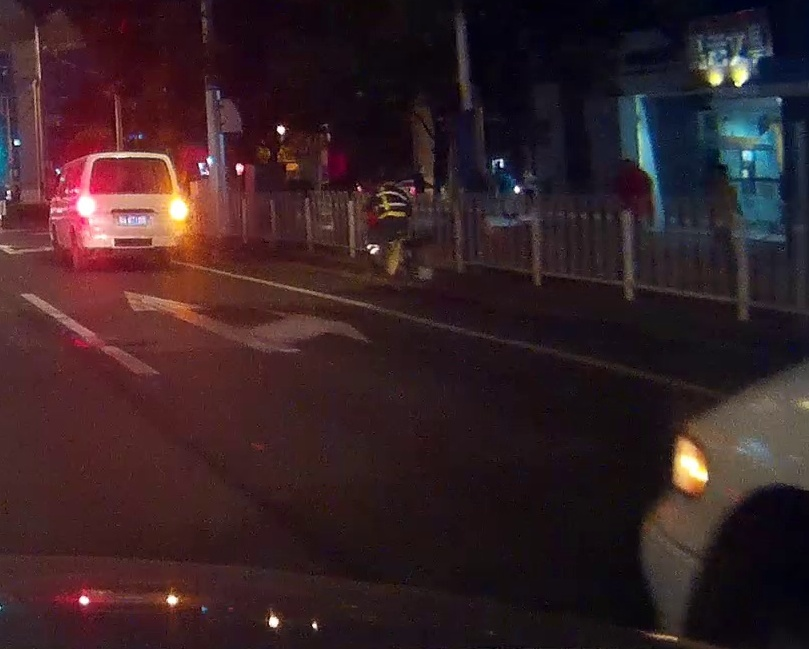L_light: (76, 196, 96, 217)
R_light: (169, 198, 188, 221)
T_light: (120, 157, 138, 161)
night-no: (76, 151, 188, 270)
